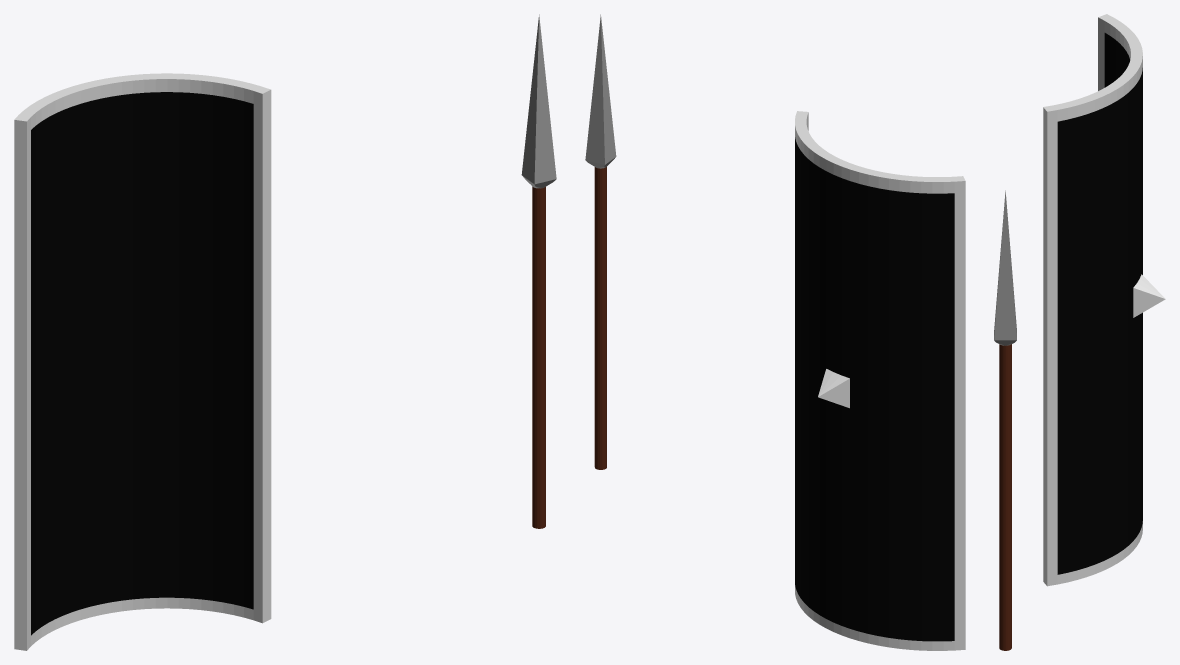
The model's file is Lance et bouclier.fbx.
The picture shows the model from 3 angles, left to right: view 1: azimuth 30°, elevation 25°; view 2: azimuth 150°, elevation 25°; view 3: azimuth 270°, elevation 25°; orthographic projection. The views are drawn at different scales.
Parts seen in each view (by area): view 1: Bouclier, Cube; view 2: Bouclier, Cube; view 3: Bouclier, Cube.
Part boxes in pixels (x1=…): Bouclier: x1=14, y1=73, x2=271, y2=650; Cube: x1=521, y1=14, x2=556, y2=528; Bouclier: x1=795, y1=111, x2=965, y2=650; Cube: x1=585, y1=14, x2=616, y2=469; Bouclier: x1=1043, y1=14, x2=1165, y2=586; Cube: x1=994, y1=190, x2=1016, y2=650.
Size of the model in its own units: 251 by 281 by 86.82.
